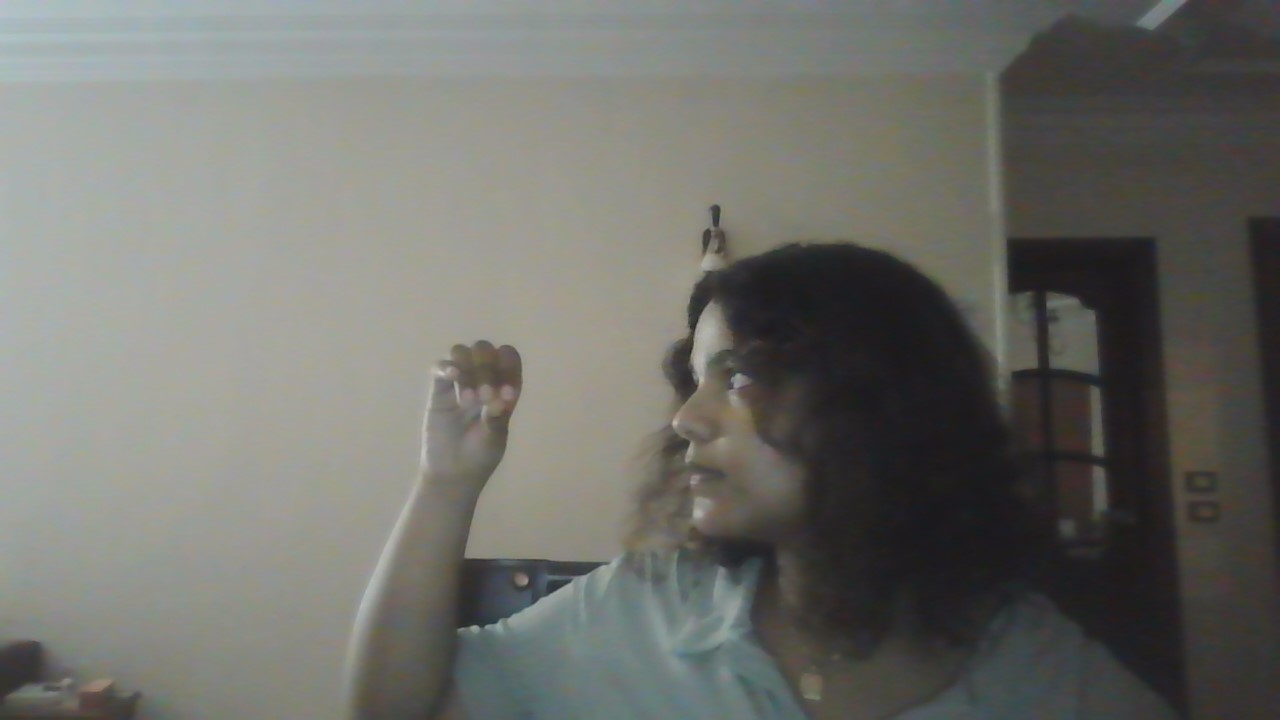okay: (332, 313, 572, 523)
